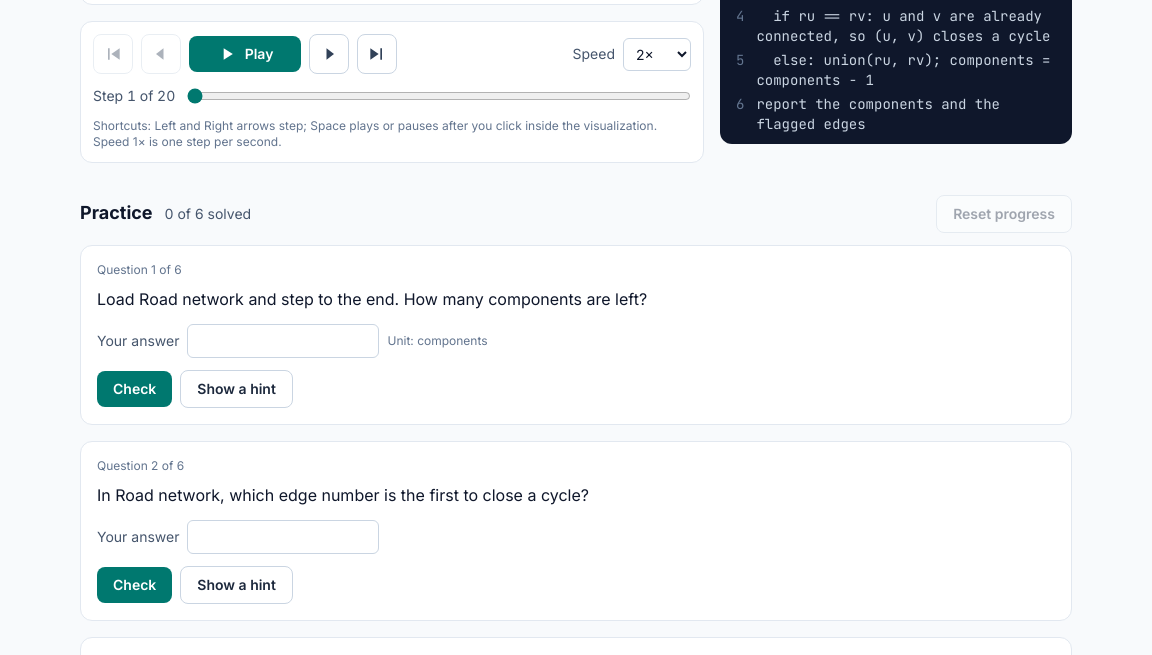
Test: union-find practice lesson › checks practice answers with a hint
(page scrolled)
Type "1" into the field named "answer" at (284, 341), box [188,324,380,358]
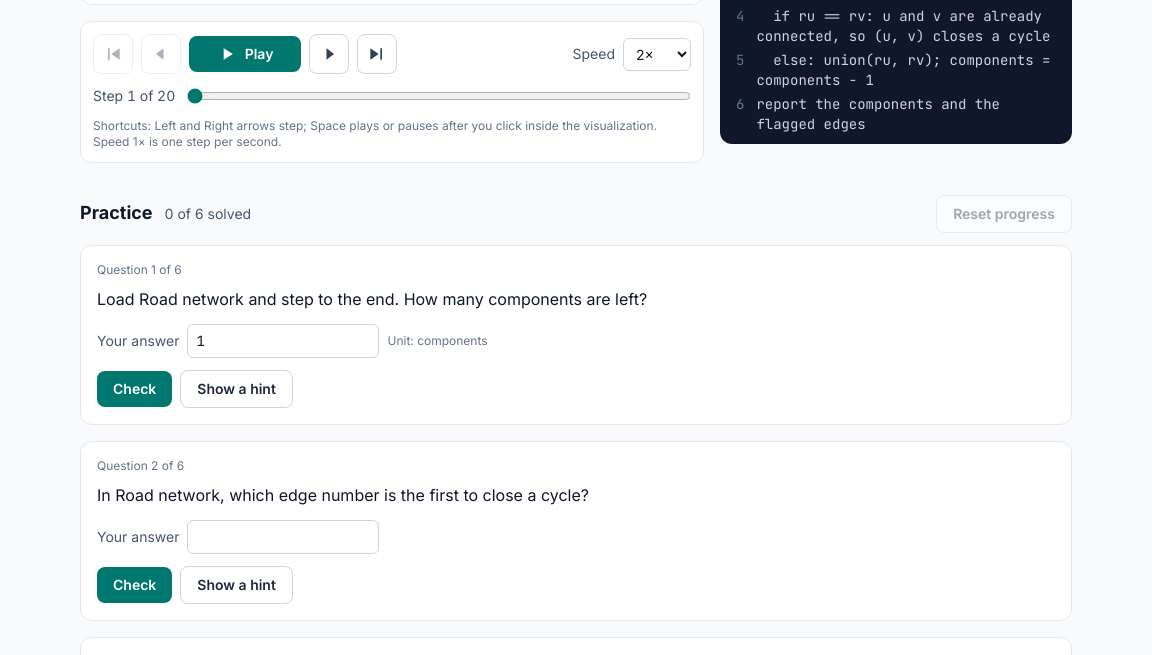
Submit the form "Your answer Unit: components Check Show a hint", box [97,324,488,408]
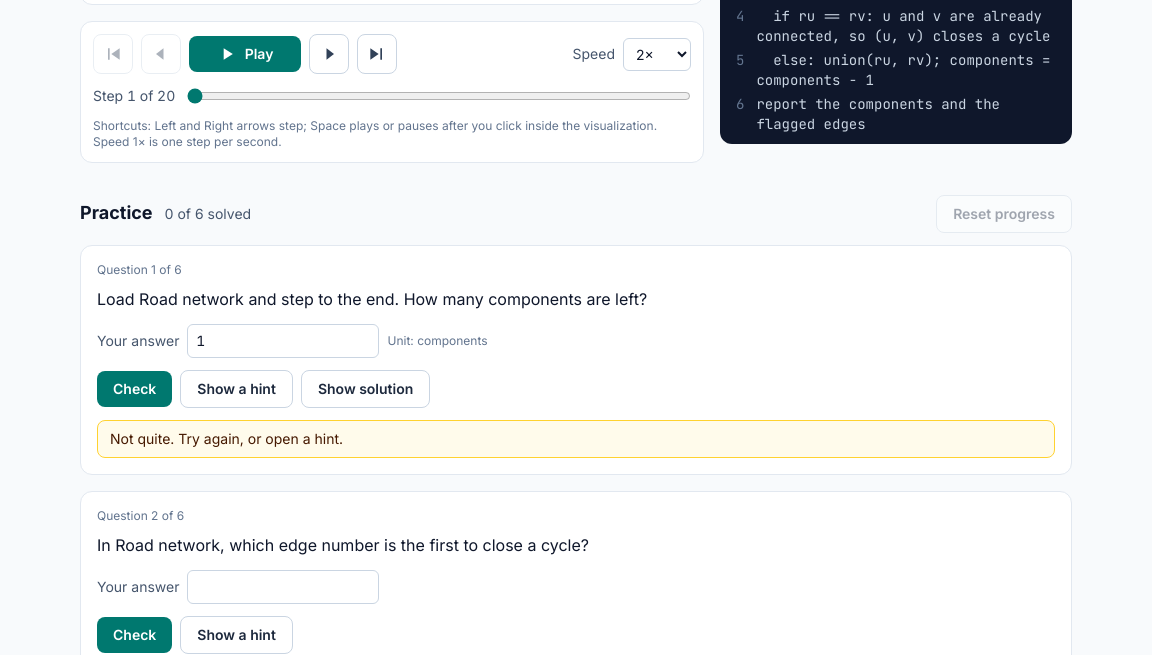
Result: the list item that starts with "Question 1 of 6" shows "Not quite" at [110,430,343,447]
Click the button "Show a hint" below "Question 1 of 6" at (237, 389), box [180,370,293,408]
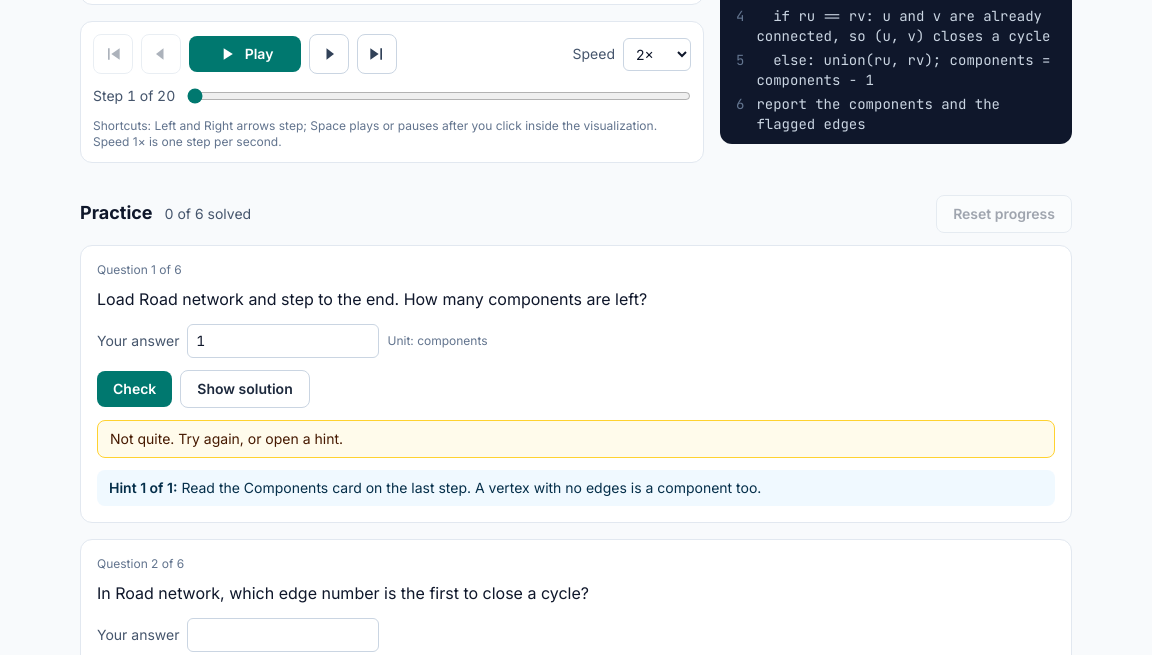
Result: the list item that starts with "Question 1 of 6" shows "Read the Components card on the last step. A vertex with no edges is a component too." at [178,479,761,496]
Replace the text in the field named "answer" with "2" at (284, 341), box [188,324,380,358]
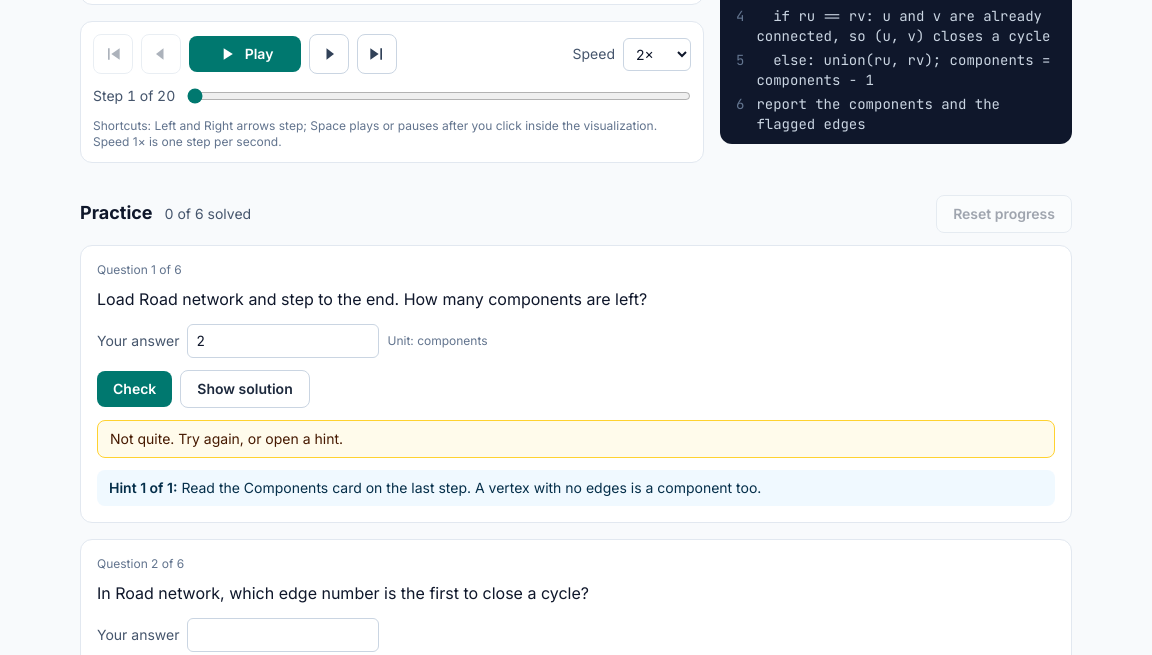
Submit the form "Your answer Unit: components Check Show solution", box [97,324,488,408]
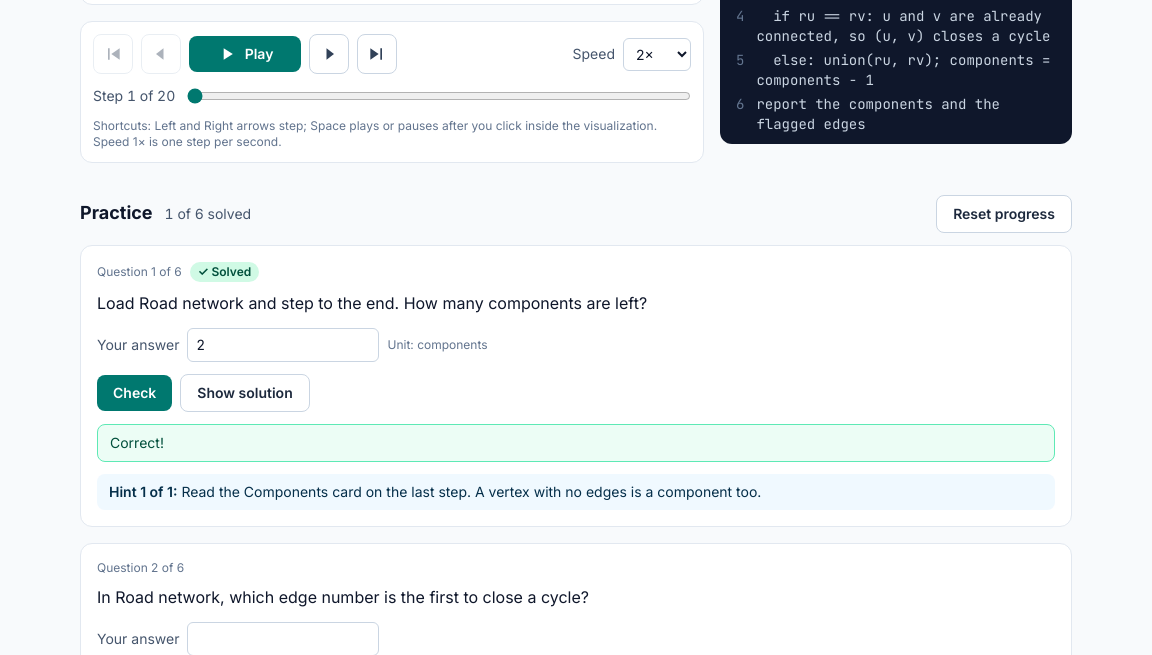
Result: the list item that starts with "Question 1 of 6" shows "Correct!" at [110,434,164,451]
